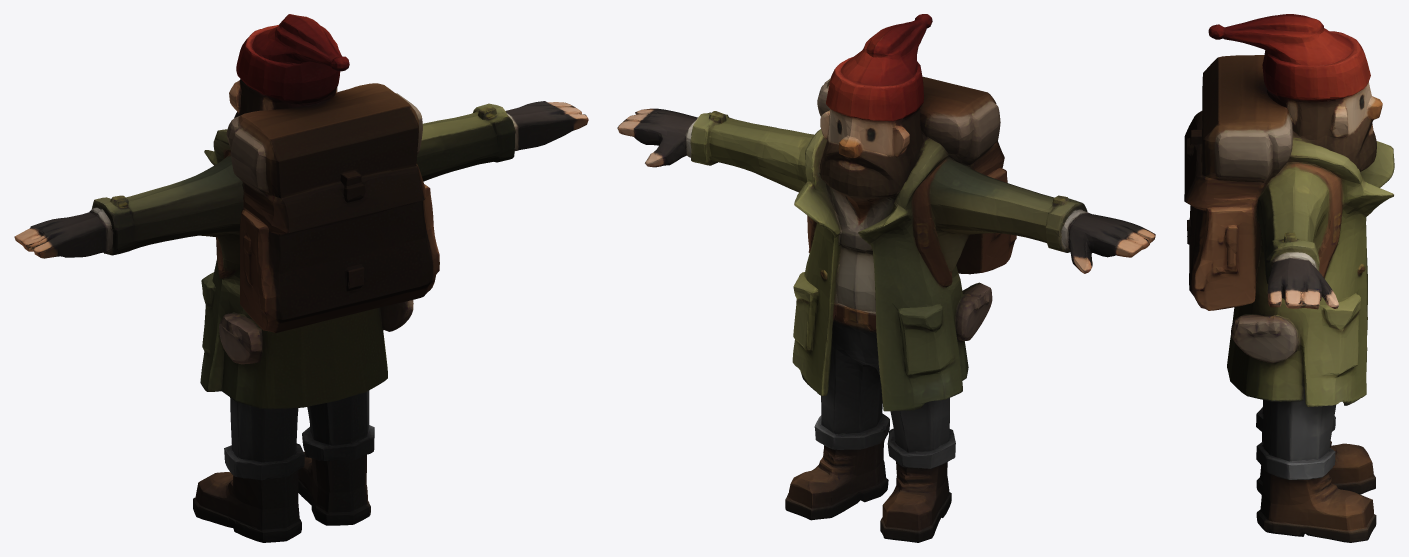
Rendered from hero-tpose.glb.
3 views of the same model, side by side, from view 1: azimuth 30°, elevation 25°; view 2: azimuth 150°, elevation 25°; view 3: azimuth 270°, elevation 25° (orthographic). The views are drawn at different scales.
Parts seen in each view (by area): view 1: world; view 2: world; view 3: world.
Boxes of the visible parts, x1,y1,x2,y2 form: world: (14,14,588,542); world: (617,14,1155,542); world: (1184,14,1394,542).
Size of the model in its own units: 0.9986 by 0.8617 by 0.3341.
1 material, 1 textured.
